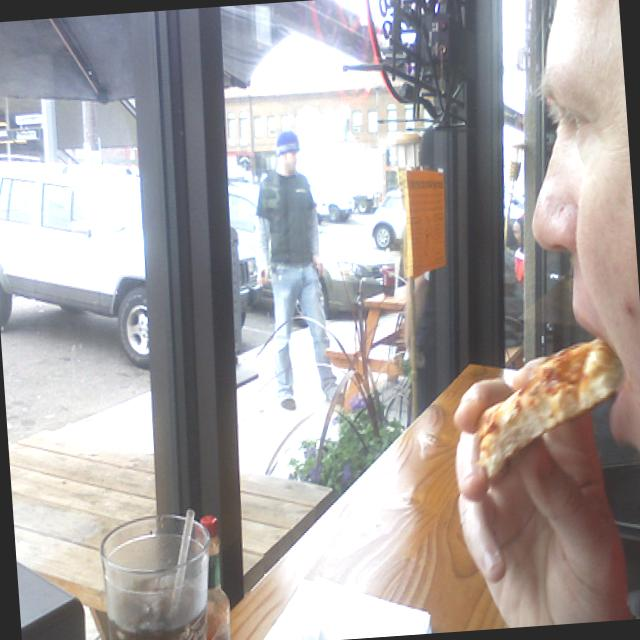Vehicle: (0, 140, 264, 377), (293, 145, 390, 217), (318, 227, 389, 320), (227, 179, 266, 267), (366, 188, 407, 250), (312, 190, 354, 223)
